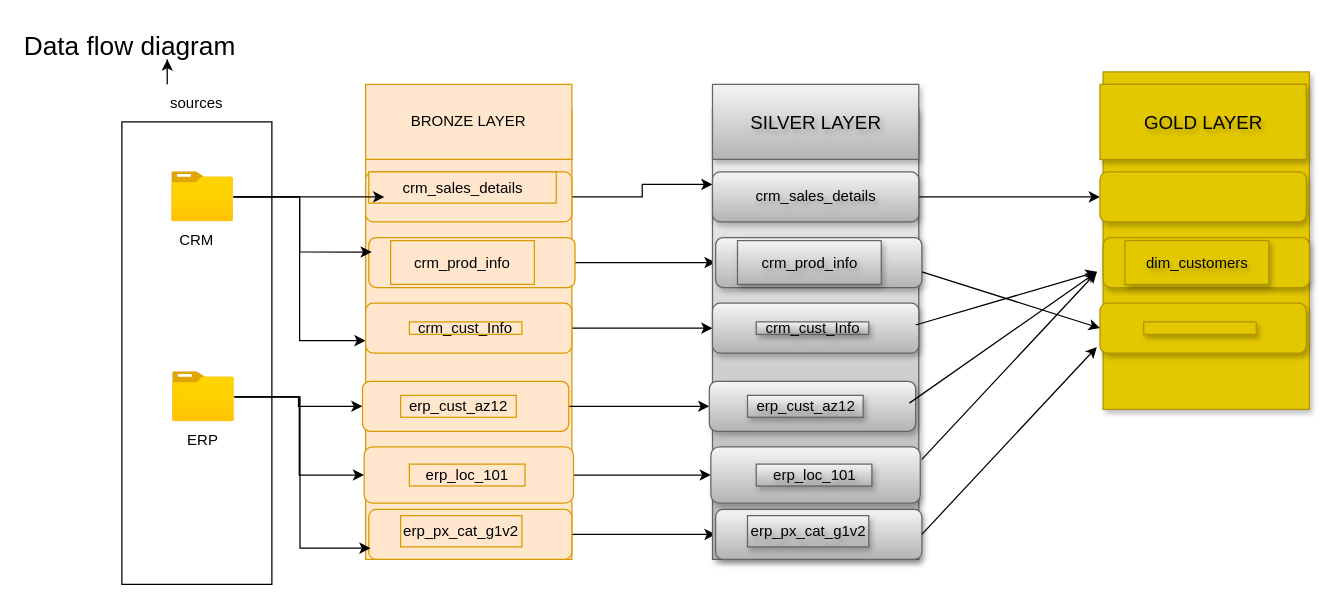
Some shapes in this 1339 by 606 pixel diagram are drawn without their labels. Here are the shapes that lost their labels. From the top down, the centre of each, then its label:
(1204,198): fact_sales
(1204,329): dim_product
